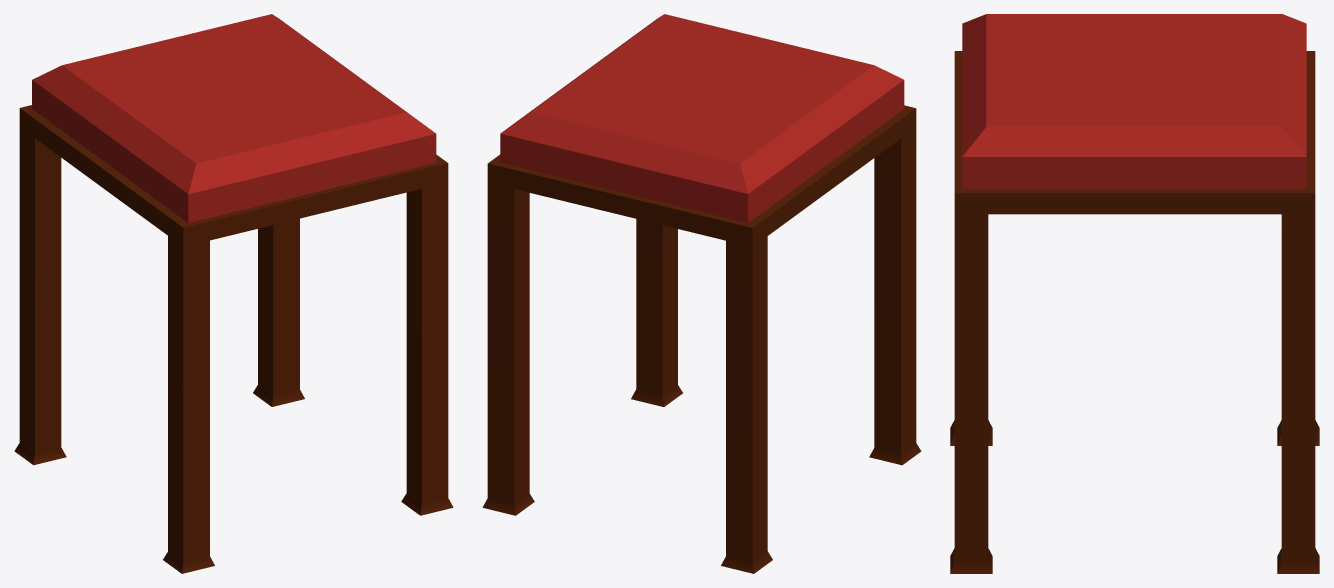
The model's file is stool01.fbx.
3 views of the same model, side by side, from view 1: azimuth 30°, elevation 25°; view 2: azimuth 150°, elevation 25°; view 3: azimuth 270°, elevation 25° (orthographic). The views are drawn at different scales.
Visible parts, largest first — view 1: pCube14, pCube15; view 2: pCube14, pCube15; view 3: pCube15, pCube14.
Part boxes in pixels (bbox=[...]): pCube14: bbox=[14, 105, 453, 573]; pCube15: bbox=[32, 14, 436, 222]; pCube14: bbox=[482, 105, 921, 573]; pCube15: bbox=[500, 14, 904, 222]; pCube15: bbox=[962, 14, 1306, 188]; pCube14: bbox=[950, 51, 1319, 573].
Size of the model in its own units: 55.99 by 76.97 by 59.85.
